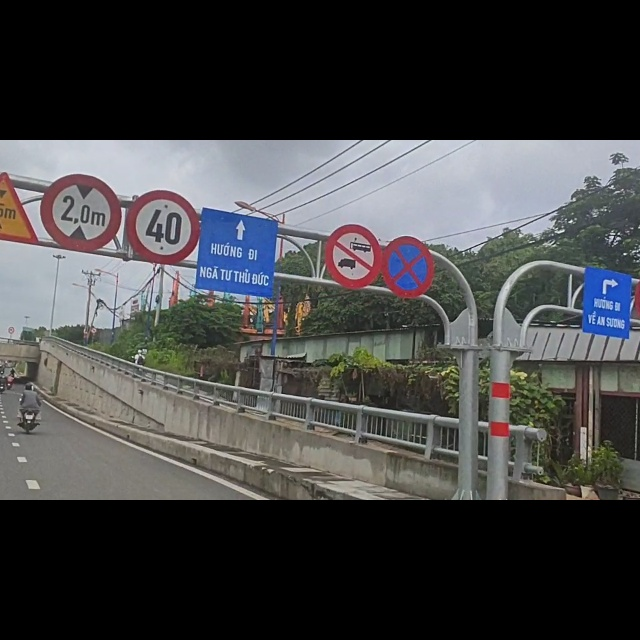bien_nguy_hiem: (41, 57, 123, 204), (128, 89, 199, 223), (324, 149, 382, 265), (383, 166, 435, 286), (1, 58, 39, 187)
